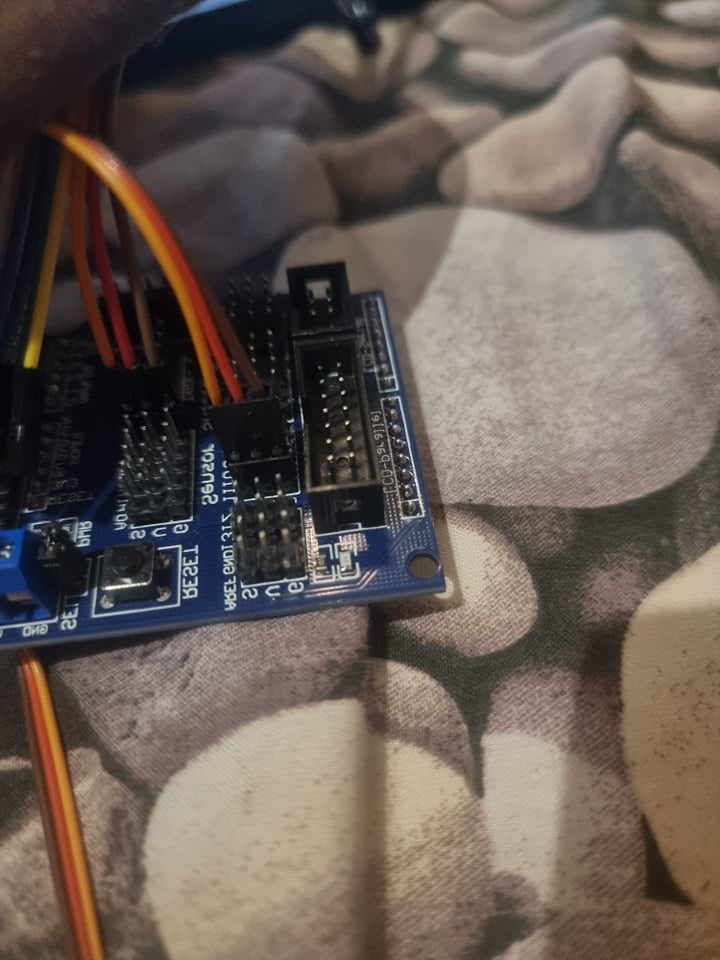5V EXPANSION: (0, 259, 449, 645)
